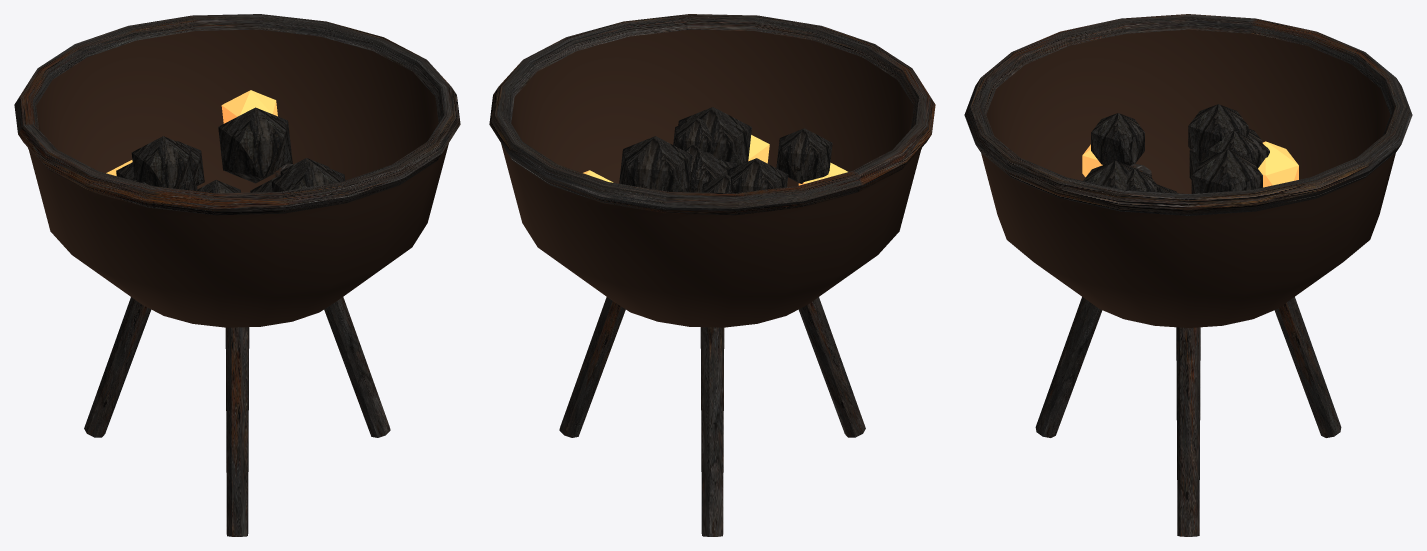
File: street-brazier-v01-photo.glb
3 views of the same model, side by side, from view 1: azimuth 30°, elevation 25°; view 2: azimuth 150°, elevation 25°; view 3: azimuth 270°, elevation 25° (orthographic).
Visible parts, largest first — view 1: street-brazier; view 2: street-brazier; view 3: street-brazier.
Part boxes in pixels (x1,y1,x2,y2): street-brazier: (14, 14, 460, 536); street-brazier: (489, 14, 935, 536); street-brazier: (964, 14, 1412, 536).
Size of the model in its own units: 1.22 by 1.09 by 1.22.
4 materials, 3 textured.
